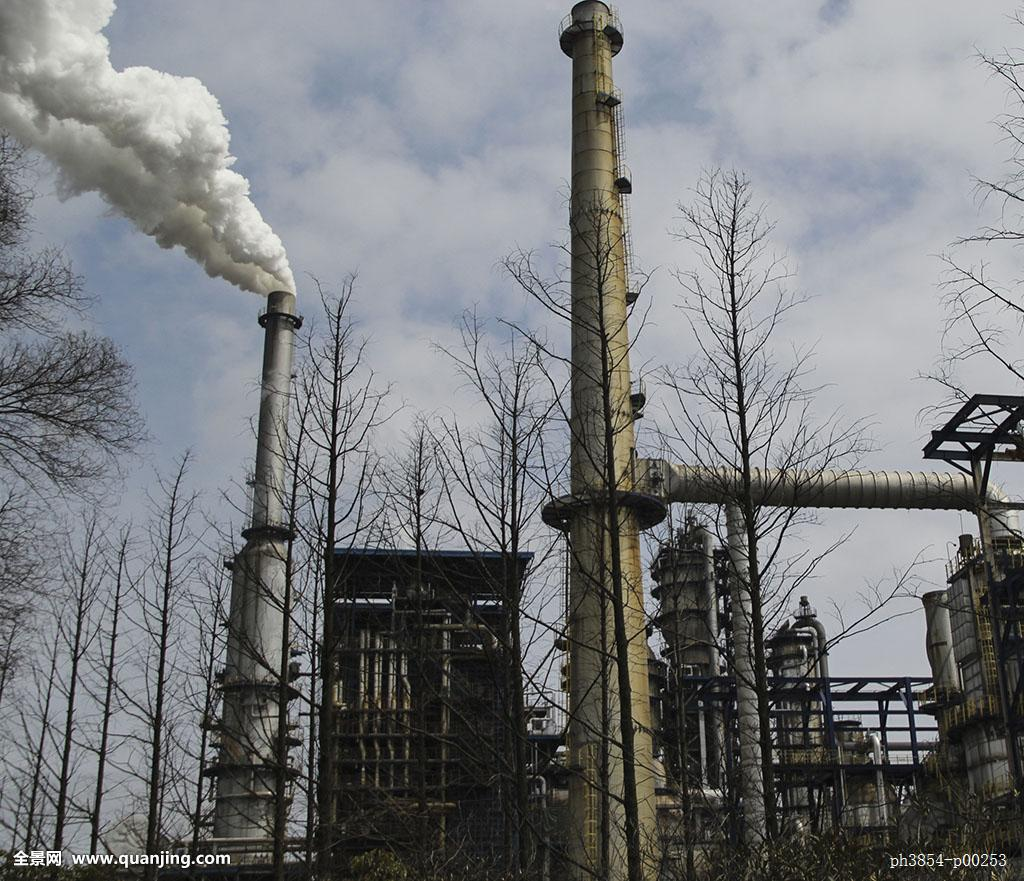dust: (16, 3, 321, 330)
